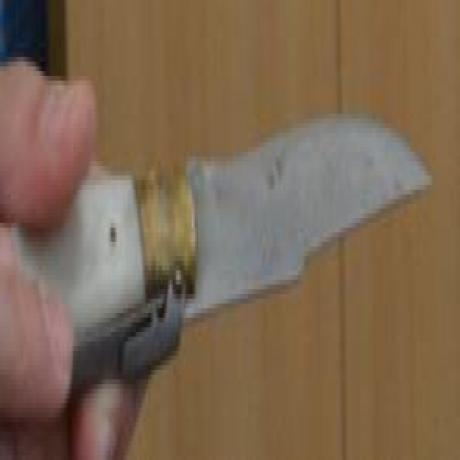1: (0, 52, 153, 455)
weapon: (9, 103, 433, 405)
